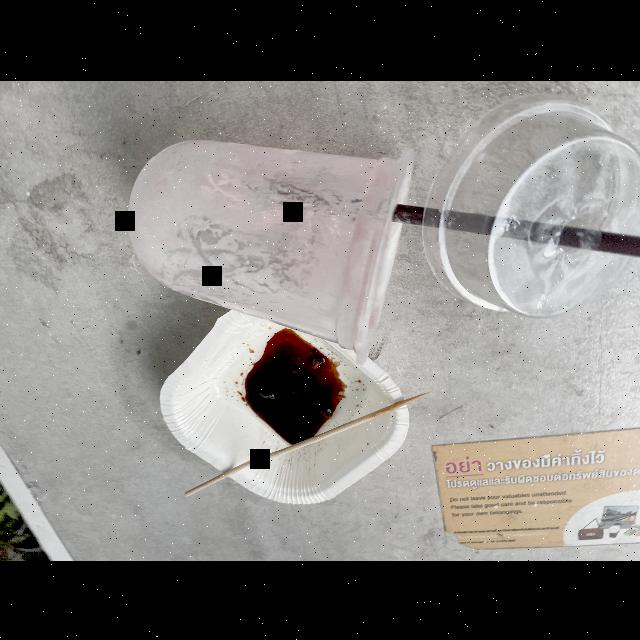cardboard_bowl: (158, 304, 416, 511)
plastic_cup: (125, 133, 418, 364)
plastic_cup_lid: (422, 94, 640, 314)
stick: (178, 382, 436, 506)
straw: (388, 198, 640, 264)
